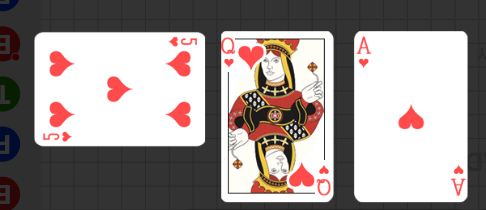5H: (167, 36, 199, 48), (42, 130, 74, 142)
AH: (357, 35, 373, 70)
